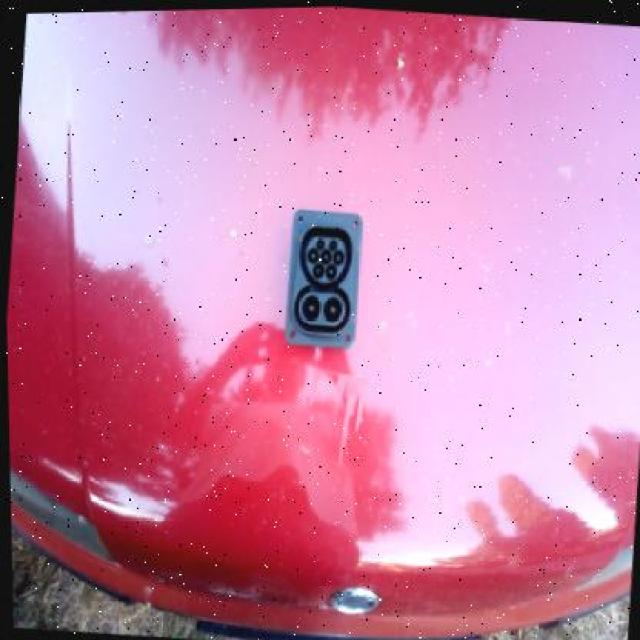CCS2: (251, 224, 377, 351)
